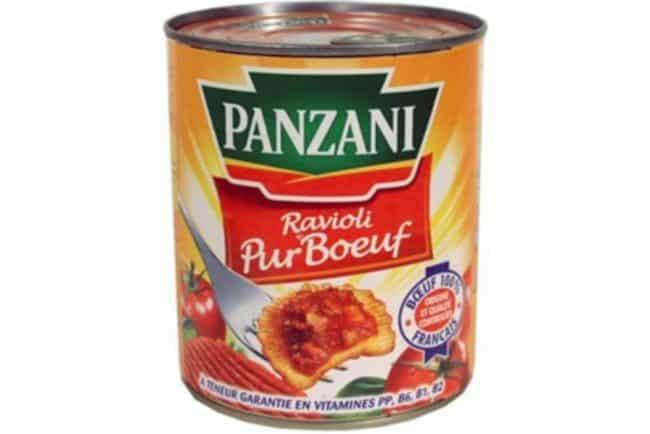metal: (164, 2, 487, 426)
